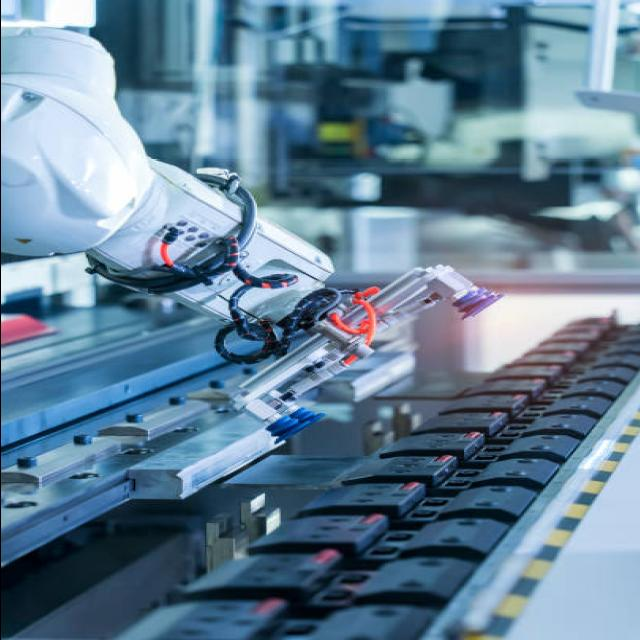Robotic-arm: (0, 29, 387, 363)
